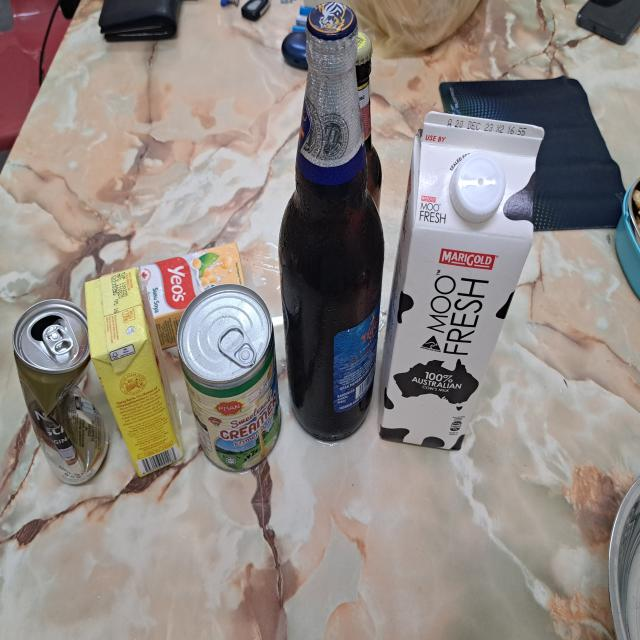can: (176, 283, 282, 472), (13, 299, 109, 484)
drink carton: (373, 111, 544, 453), (82, 269, 182, 478), (136, 243, 246, 350)
glass bottle: (278, 2, 384, 442), (356, 31, 382, 213)
plastic bottle cap: (451, 153, 506, 223)
pop tab: (217, 326, 257, 368), (42, 324, 75, 356)
